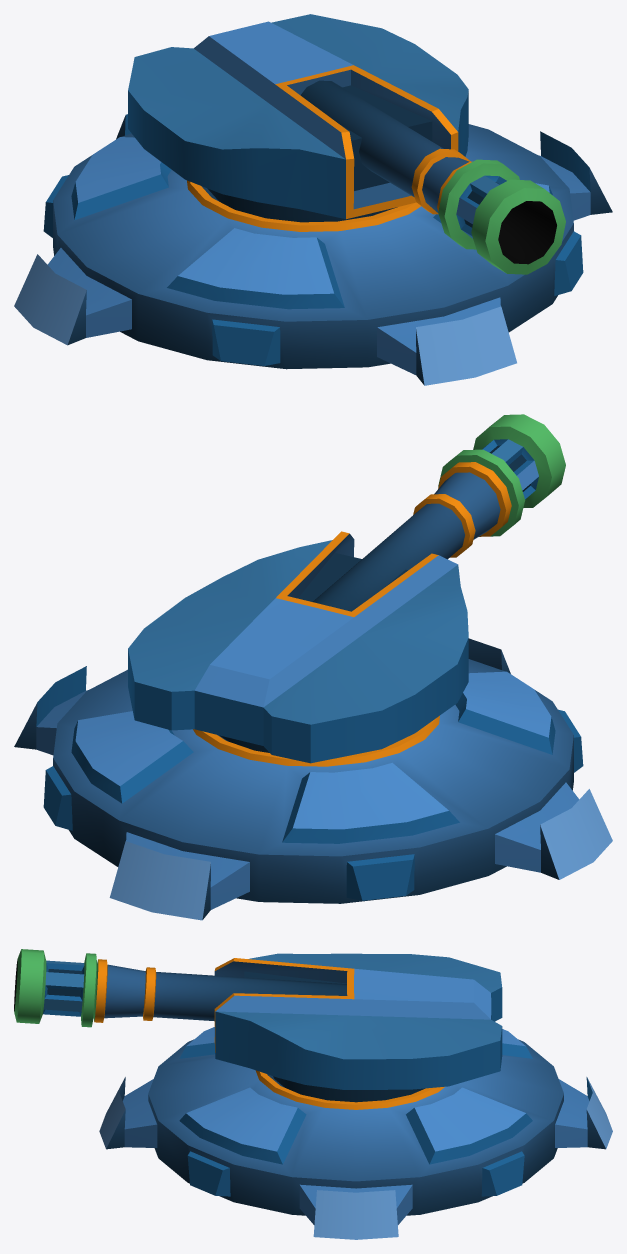
Rendered from Grenade-gun_01.fbx.
3 renders of one model, top to bottom at view 1: azimuth 30°, elevation 25°; view 2: azimuth 150°, elevation 25°; view 3: azimuth 270°, elevation 25°, orthographic. The views are drawn at different scales.
Visible parts, largest first — view 1: Grenade-gun_Platform, Grenade-gun_01, Grenade-gun_01_Trunk; view 2: Grenade-gun_Platform, Grenade-gun_01, Grenade-gun_01_Trunk; view 3: Grenade-gun_Platform, Grenade-gun_01, Grenade-gun_01_Trunk.
Part boxes in pixels (box(x1,y1,x2,y2)): Grenade-gun_Platform: box(14, 114, 612, 385); Grenade-gun_01: box(128, 14, 468, 222); Grenade-gun_01_Trunk: box(300, 80, 565, 274); Grenade-gun_Platform: box(14, 638, 612, 920); Grenade-gun_01: box(128, 531, 468, 763); Grenade-gun_01_Trunk: box(313, 414, 565, 611); Grenade-gun_Platform: box(99, 1027, 612, 1239); Grenade-gun_01: box(214, 953, 502, 1102); Grenade-gun_01_Trunk: box(14, 949, 346, 1027).
Size of the model in its own units: 2.47 by 0.95 by 2.88.
